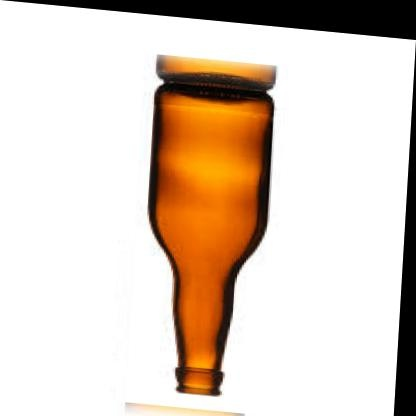trash: (149, 55, 275, 394)
